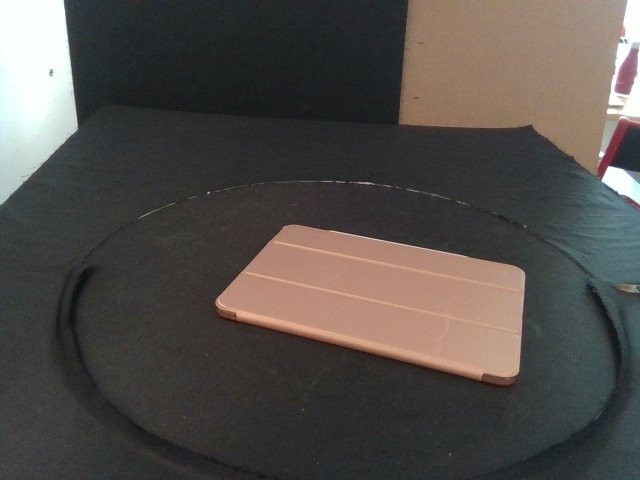laptop: (215, 223, 525, 387)
